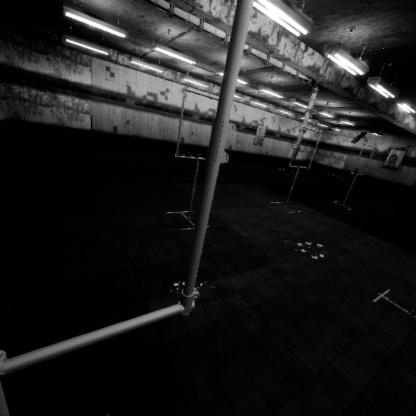gate: (175, 253, 236, 329), (289, 246, 324, 290), (351, 240, 377, 272)
